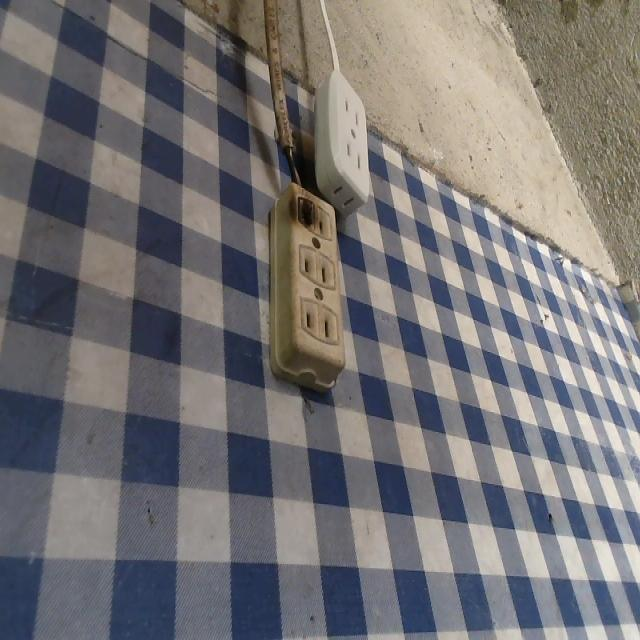-: (285, 184, 320, 236)
